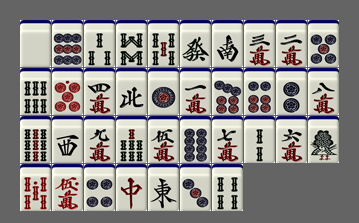0m: (52, 164, 83, 211)
0p: (52, 68, 83, 115)
0s: (20, 164, 51, 211)
1m: (180, 68, 211, 115)
1p: (148, 68, 179, 115)
1s: (308, 116, 339, 163)
1z: (148, 164, 179, 211)
2m: (276, 20, 307, 67)
2p: (276, 68, 307, 115)
2s: (244, 116, 275, 163)
2z: (212, 20, 243, 67)
3m: (244, 20, 275, 67)
3p: (180, 164, 211, 211)
3s: (84, 20, 115, 67)
3z: (52, 116, 83, 163)
4m: (84, 68, 115, 115)
4p: (84, 164, 115, 211)
4s: (212, 164, 243, 211)
4z: (116, 68, 147, 115)
5m: (148, 116, 179, 163)
5p: (308, 20, 339, 67)
5s: (148, 20, 179, 67)
5z: (20, 20, 51, 67)
6m: (276, 116, 307, 163)
6p: (244, 68, 275, 115)
6s: (20, 68, 51, 115)
6z: (180, 20, 211, 67)
7m: (212, 116, 243, 163)
7p: (212, 68, 243, 115)
7s: (116, 116, 147, 163)
7z: (116, 164, 147, 211)
8m: (308, 68, 339, 115)
8p: (180, 116, 211, 163)
8s: (116, 20, 147, 67)
9m: (84, 116, 115, 163)
9p: (52, 20, 83, 67)
9s: (20, 116, 51, 163)
